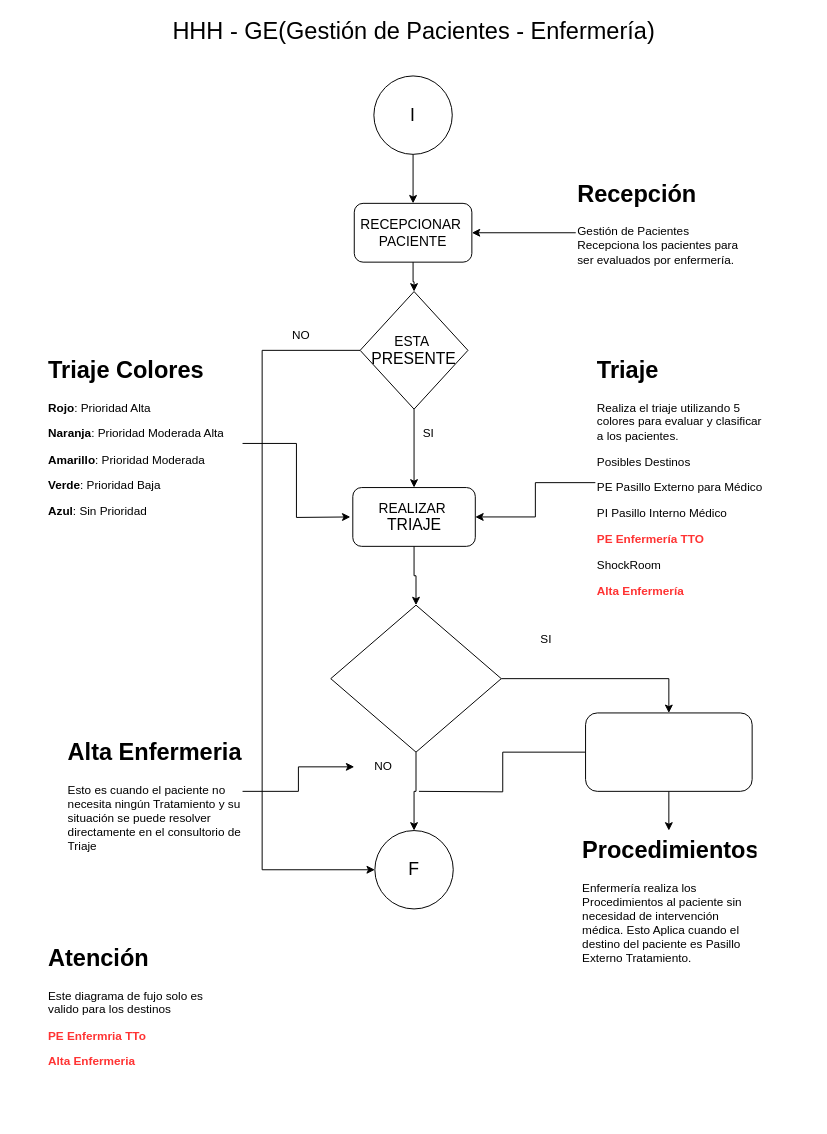
Some shapes in this 827 by 1134 pixel diagram are drawn without their labels. The centre of each missing label's shape, as x and y in pixels:
"NECESITA PROCEDIMIENTO" belongs at (415,678).
"REALIZAR EL O LOS PROCEDIMIENTO" belongs at (668,751).
